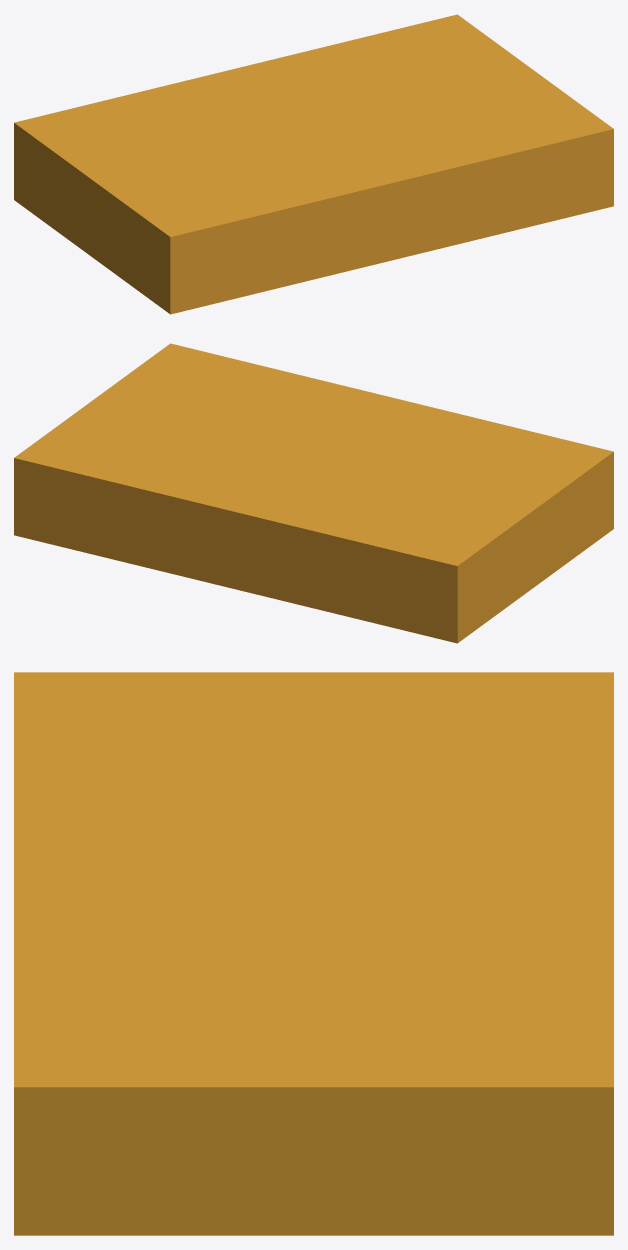
File: seat_slide_button.obj
3 views of the same model, one above another, from view 1: azimuth 30°, elevation 25°; view 2: azimuth 150°, elevation 25°; view 3: azimuth 270°, elevation 25° (orthographic). The views are drawn at different scales.
Parts seen in each view (by area): view 1: seat_slide_button__seat_slide_button_cap; view 2: seat_slide_button__seat_slide_button_cap; view 3: seat_slide_button__seat_slide_button_cap.
Part boxes in pixels (left/top/right/bottom): seat_slide_button__seat_slide_button_cap: left=14, top=14, right=613, bottom=314; seat_slide_button__seat_slide_button_cap: left=14, top=343, right=613, bottom=643; seat_slide_button__seat_slide_button_cap: left=14, top=672, right=613, bottom=1235.
Bounding box in the file's own units: 0.1125 × 0.0188 × 0.0688.
